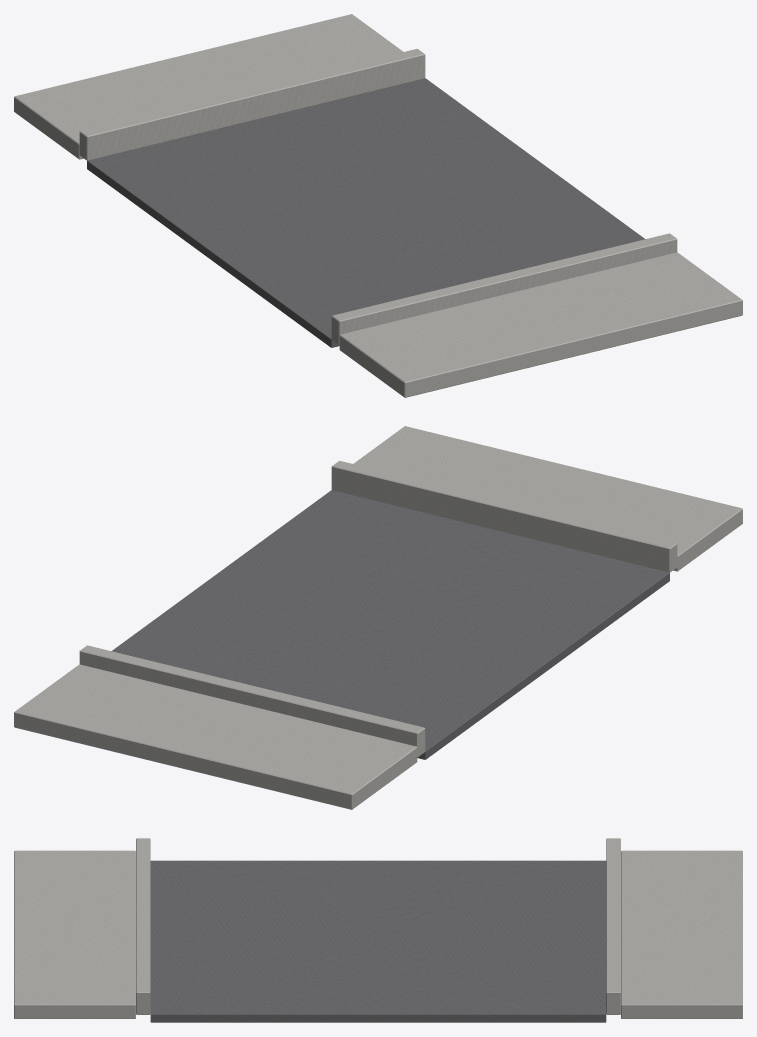
The model's file is street-road-section.glb.
The picture shows the model from 3 angles, top to bottom: view 1: azimuth 30°, elevation 25°; view 2: azimuth 150°, elevation 25°; view 3: azimuth 270°, elevation 25°; orthographic projection. The views are drawn at different scales.
Parts seen in each view (by area): view 1: street-road-section; view 2: street-road-section; view 3: street-road-section.
Part boxes in pixels (box(x1,y1,x2,y2)): street-road-section: box(14, 14, 742, 397); street-road-section: box(14, 426, 742, 809); street-road-section: box(14, 838, 742, 1022).
Bounding box in the file's own units: 4 × 0.3701 × 8.
Materials: 3 (3 with a texture image).
